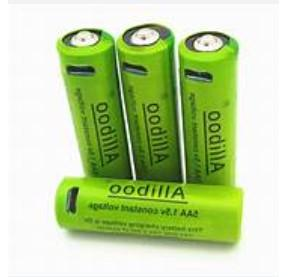Battery: (53, 177, 244, 246)
